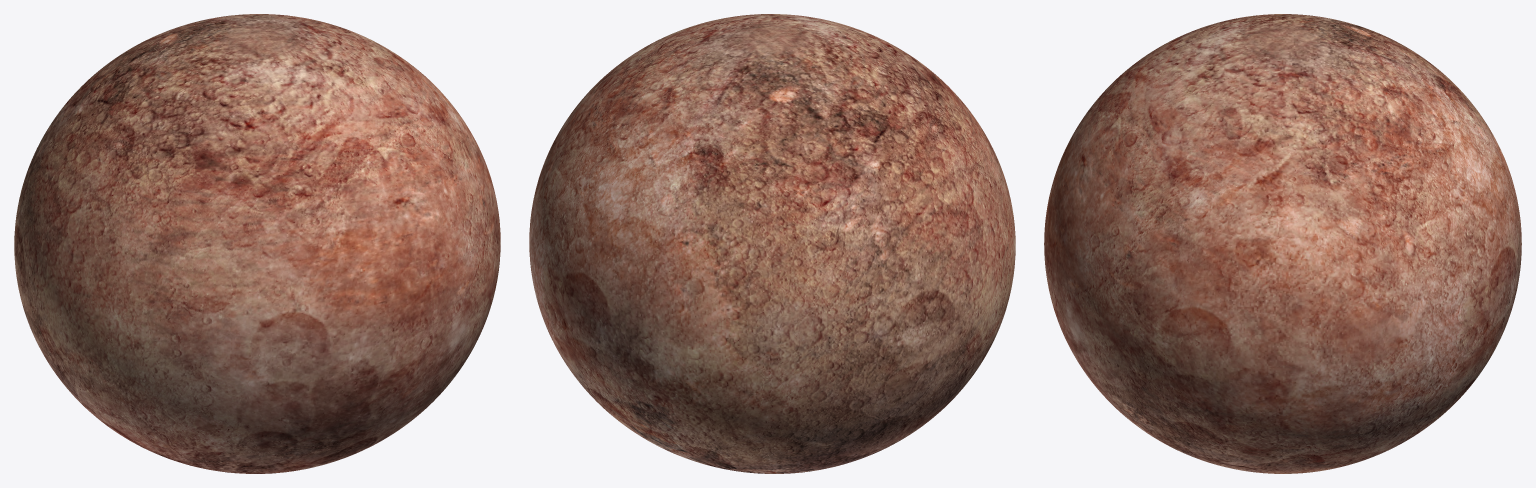
File: makemake.glb
The picture shows the model from 3 angles, left to right: view 1: azimuth 30°, elevation 25°; view 2: azimuth 150°, elevation 25°; view 3: azimuth 270°, elevation 25°; orthographic projection.
Visible parts, largest first — view 1: makemake_globe; view 2: makemake_globe; view 3: makemake_globe.
Part boxes in pixels (box(x1,y1,x2,y2)): makemake_globe: box(14, 14, 500, 473); makemake_globe: box(529, 14, 1015, 473); makemake_globe: box(1044, 14, 1521, 473).
Bounding box in the file's own units: 2.04 × 1.9 × 2.
1 material, 1 textured.
